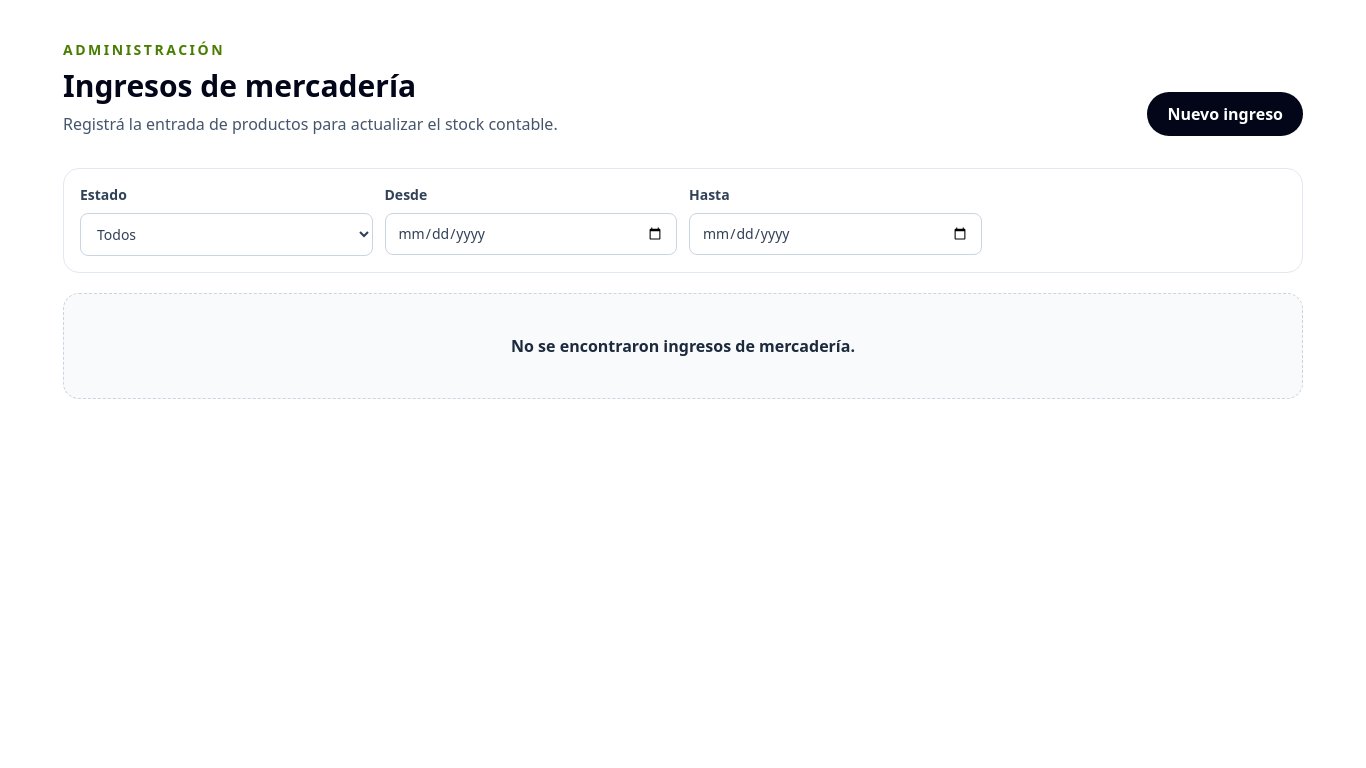
Test: administración de ingresos de mercadería › crea un ingreso enviando cantidad como número y precio como texto
Check: the text "No se encontraron ingresos de mercadería." is shown, box left=511, top=335, right=855, bottom=357
Click the button "Nuevo ingreso" at (1225, 114), box left=1147, top=92, right=1303, bottom=136
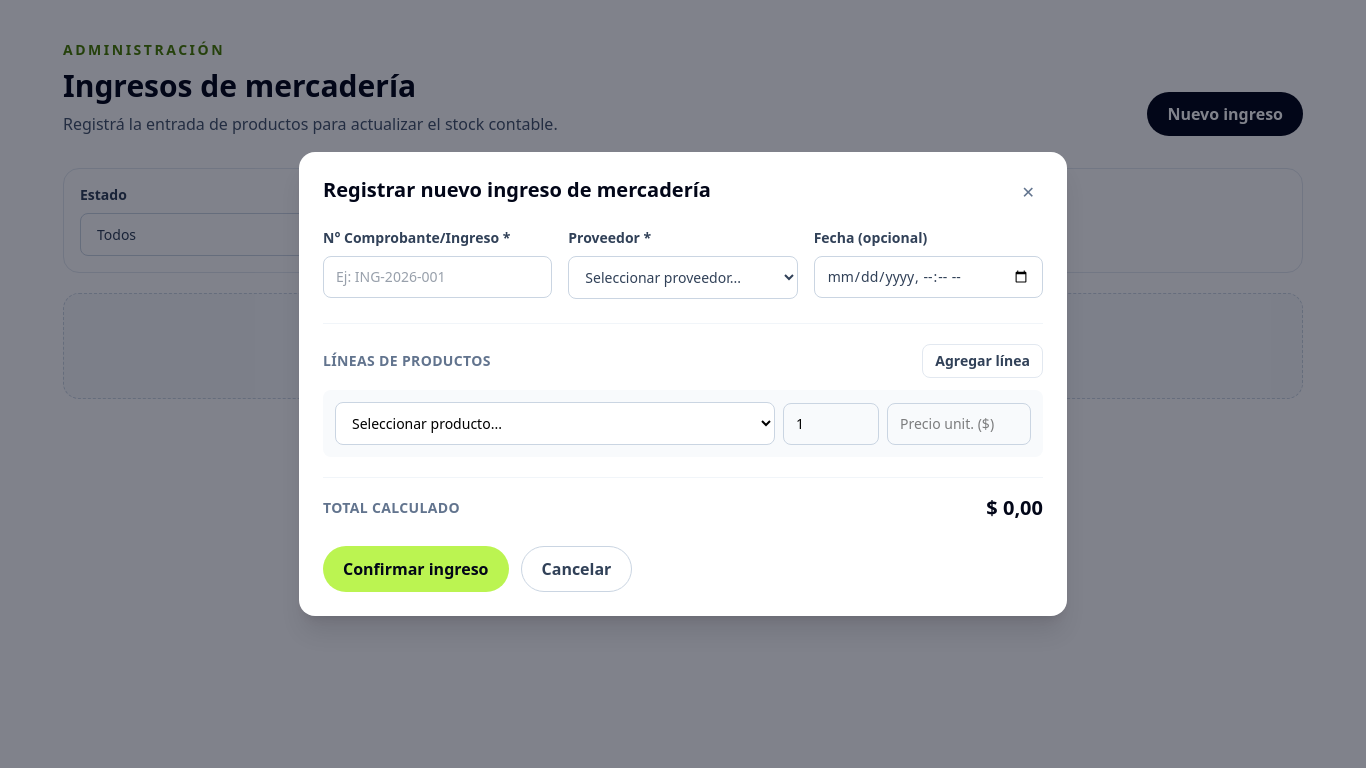
Check: the dialog "Registrar nuevo ingreso" is shown, box left=299, top=152, right=1067, bottom=616
Type "  ING-2026-001  " into the field labelled "N° Comprobante/Ingreso *" at (438, 277), box left=323, top=256, right=552, bottom=298
Select "Suplementos SA (CUIT: 30-12345678-9)" in the dropdown labelled "Proveedor *" at (683, 278), box left=568, top=256, right=798, bottom=299
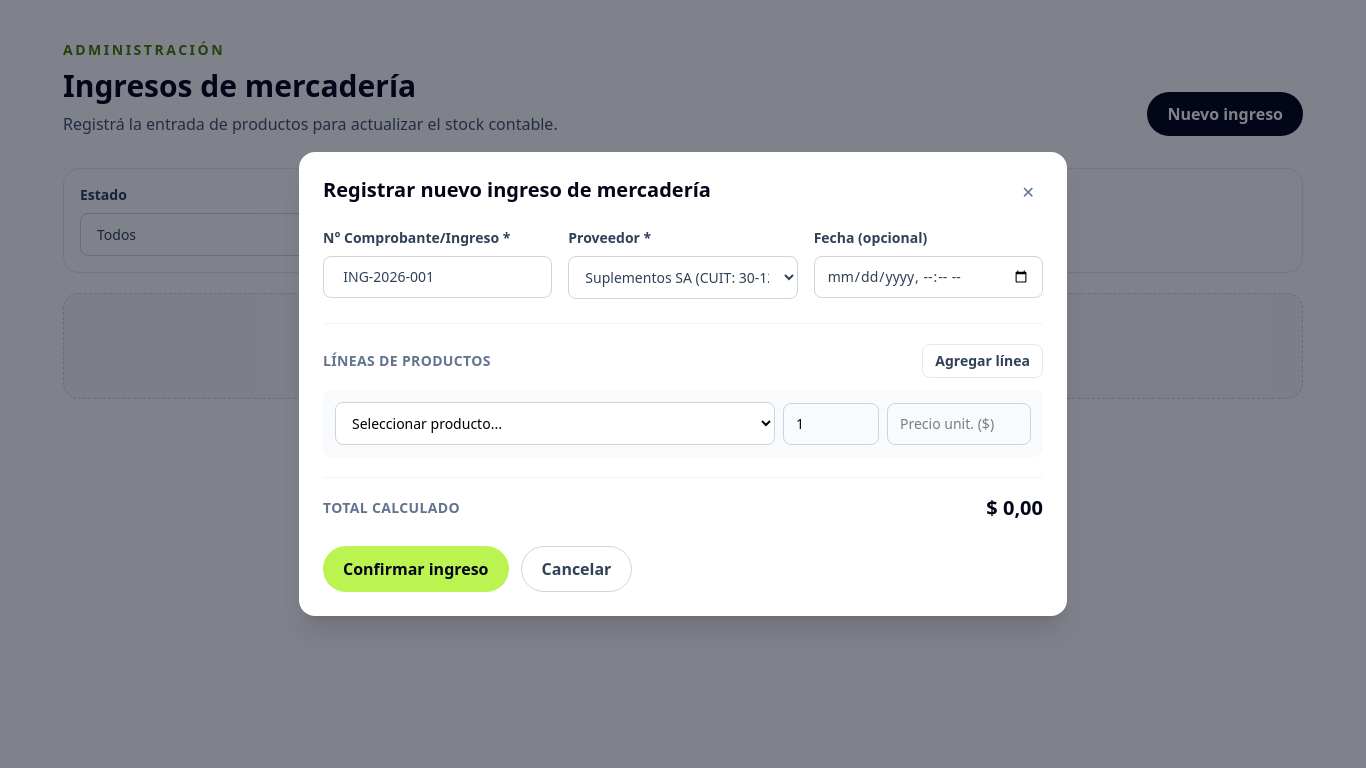
Select "Creatina (Stock actual: 10)" in the dropdown named "Producto de la línea 1" at (555, 424), box left=335, top=402, right=775, bottom=445
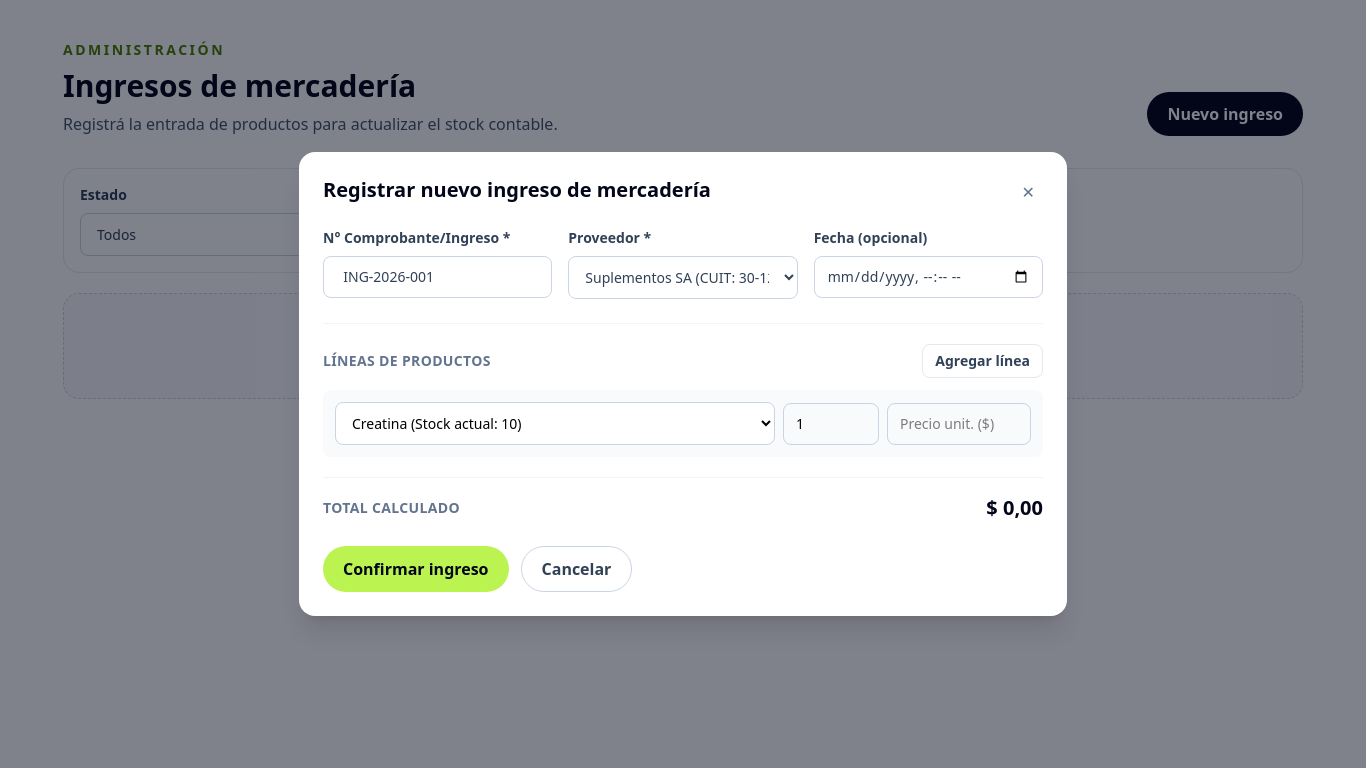
Replace the text in the number field named "Cantidad de la línea 1" with "5" at (831, 424), box left=783, top=402, right=879, bottom=444
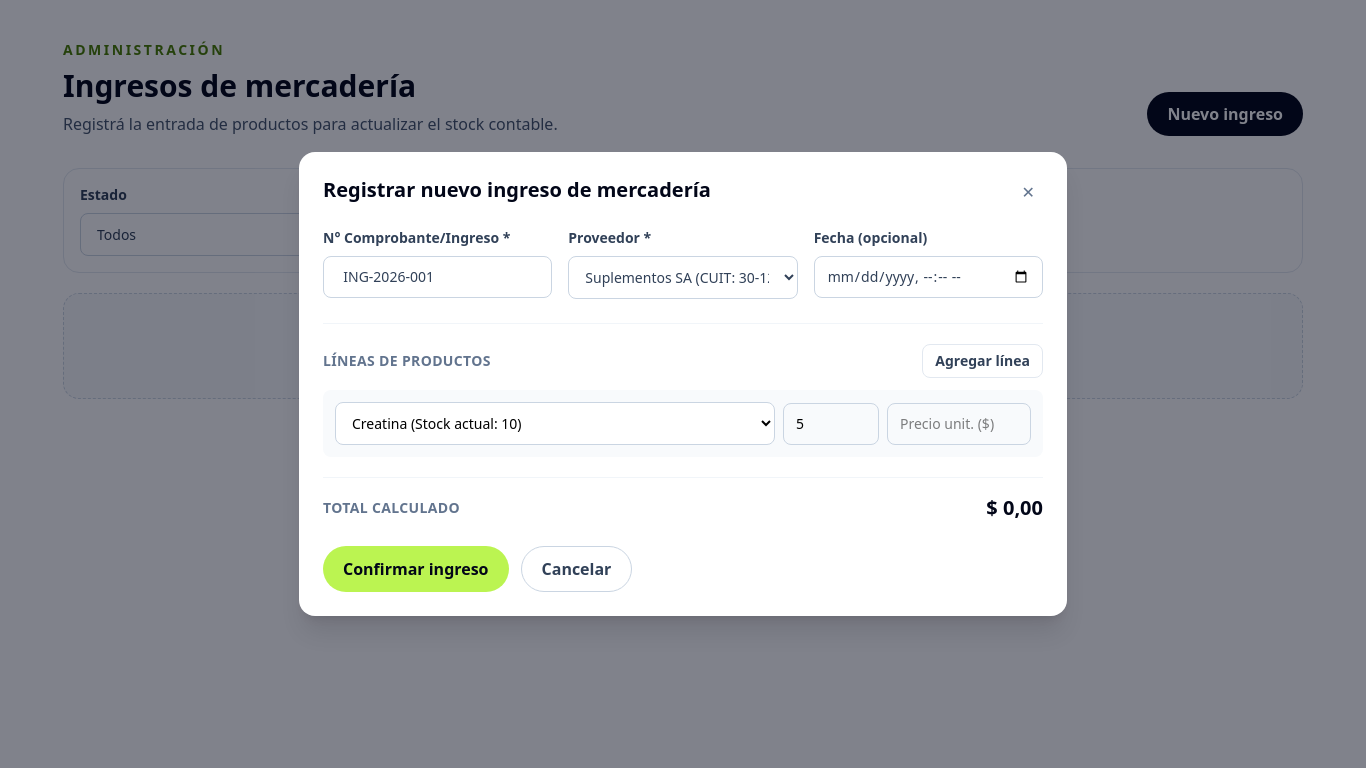
Type "5000.00" into the number field named "Precio unitario de la línea 1" at (959, 424), box left=887, top=402, right=1031, bottom=444
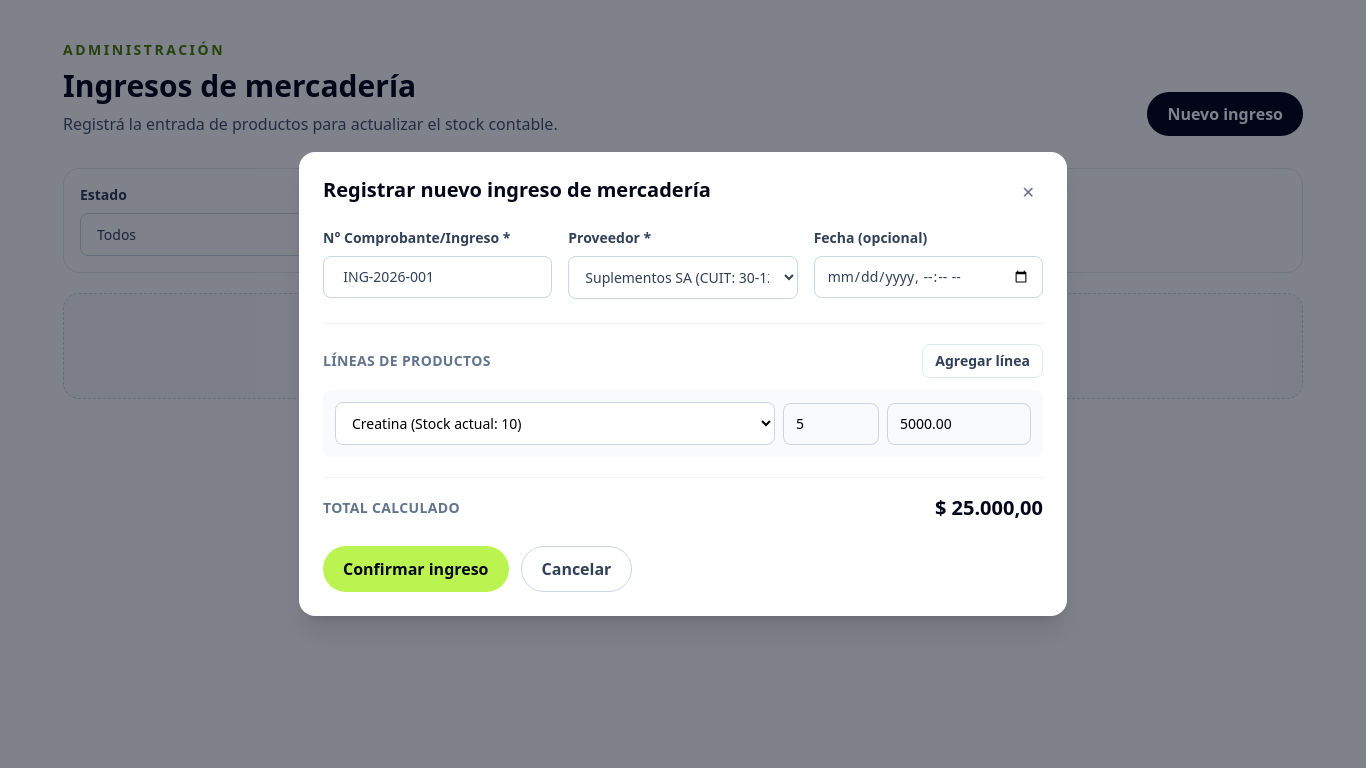
Click the button "Confirmar ingreso" at (416, 569), box left=323, top=546, right=508, bottom=592
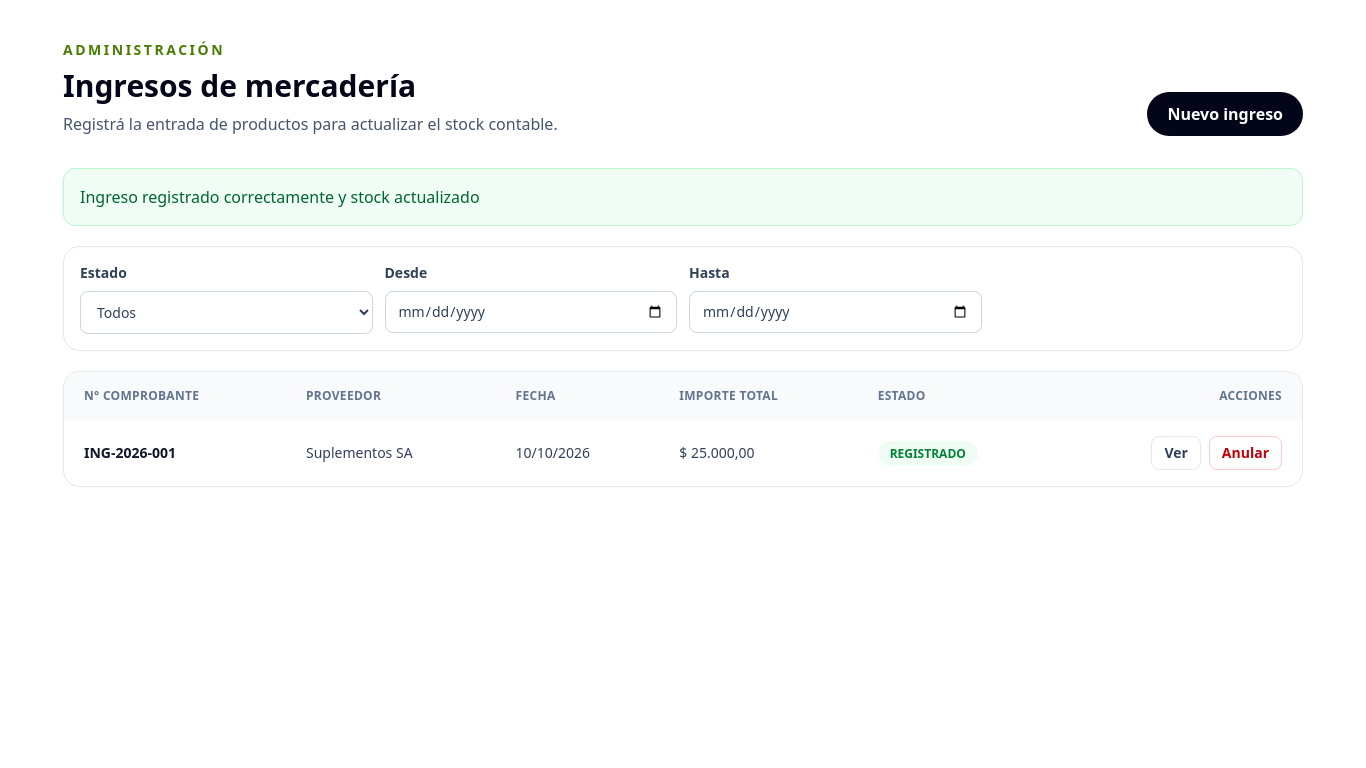
Check: the text "Ingreso registrado correctamente y stock actualizado" is shown, box left=63, top=168, right=1303, bottom=226
Check: the text "ING-2026-001" is shown, box left=64, top=420, right=286, bottom=486
Check: the dialog is gone
